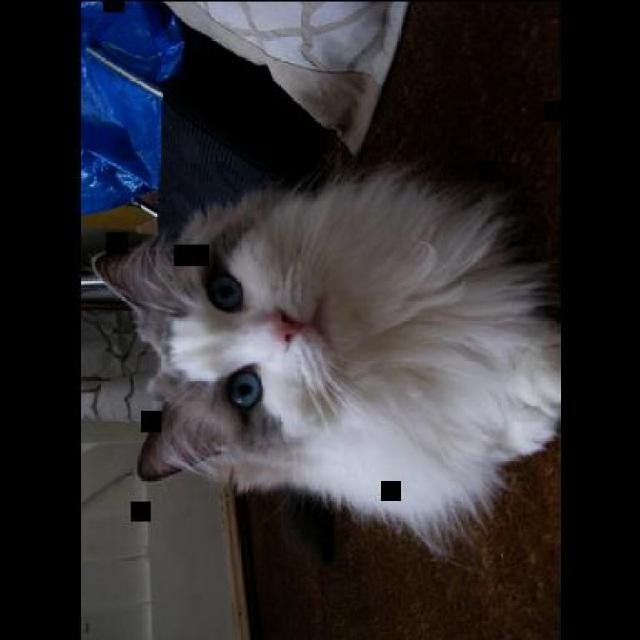unauthorized: (92, 158, 560, 560)
